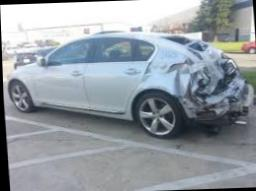Bumper: (190, 79, 256, 131)
Dickey: (157, 33, 247, 97)
Fender: (136, 47, 194, 119)
